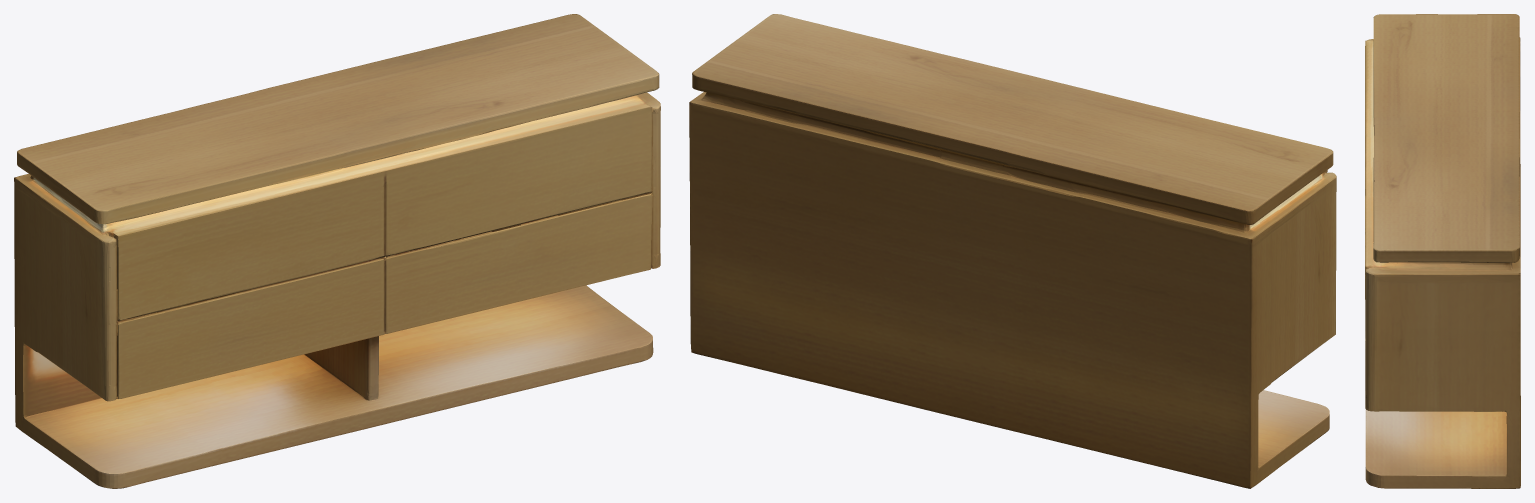
File: BUFETERA BARPE NUEZ.glb
The picture shows the model from 3 angles, left to right: view 1: azimuth 30°, elevation 25°; view 2: azimuth 150°, elevation 25°; view 3: azimuth 270°, elevation 25°; orthographic projection. The views are drawn at different scales.
Visible parts, largest first — view 1: world; view 2: world; view 3: world.
Part boxes in pixels (bbox=[...]): world: bbox=[14, 14, 660, 488]; world: bbox=[689, 14, 1336, 488]; world: bbox=[1365, 14, 1520, 488].
Size of the model in its own units: 1.8 by 0.85 by 0.5.
1 material, 1 textured.
